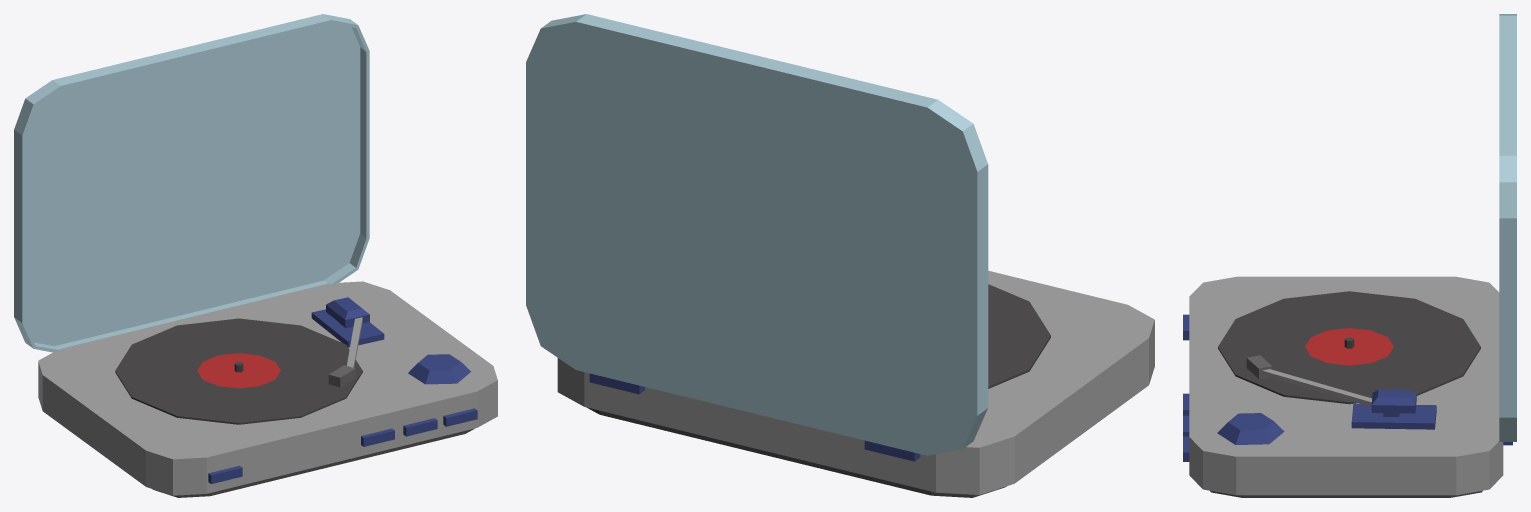
File: Vinyl_player_2.fbx
The picture shows the model from 3 angles, left to right: view 1: azimuth 30°, elevation 25°; view 2: azimuth 150°, elevation 25°; view 3: azimuth 270°, elevation 25°; orthographic projection. The views are drawn at different scales.
Visible parts, largest first — view 1: Vinyl_player_2; view 2: Vinyl_player_2; view 3: Vinyl_player_2.
Boxes of the visible parts, x1,y1,x2,y2 form: Vinyl_player_2: [14, 14, 497, 497]; Vinyl_player_2: [526, 14, 1154, 497]; Vinyl_player_2: [1183, 14, 1516, 497].
Bounding box in the file's own units: 41.57 × 32.59 × 35.26.
